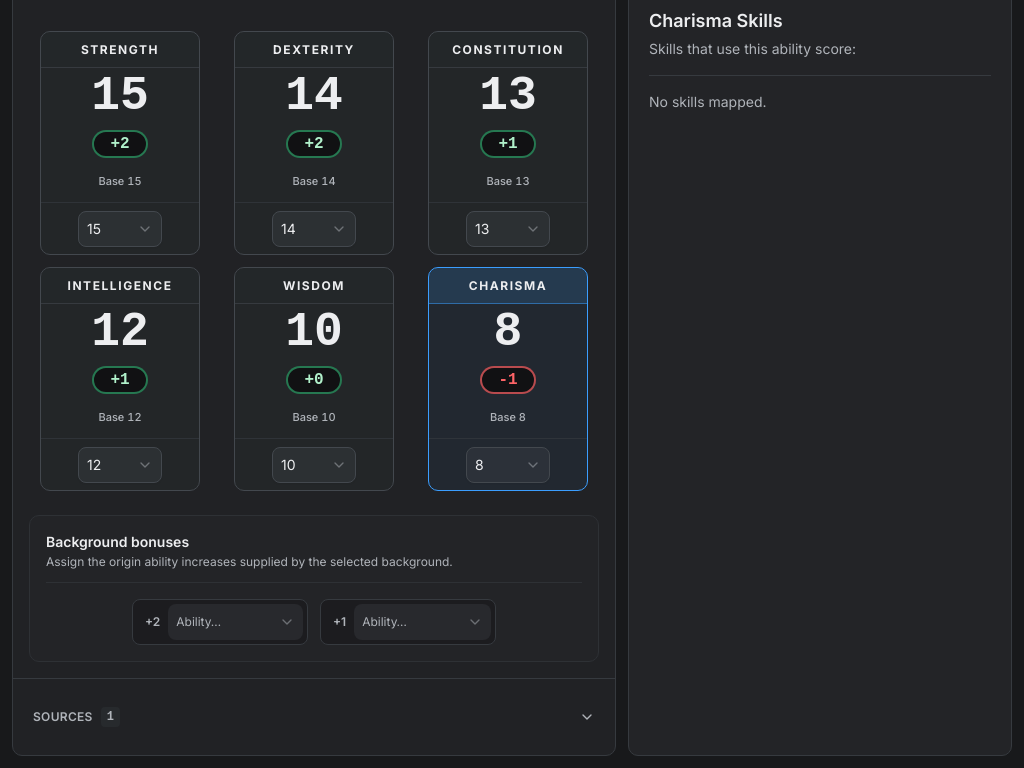
BuildAbilityScoresPage › shows the unresolved parsed background bonus pattern in Sources
This screenshot has width=1024, height=768.
(page scrolled)
Click the button "Sources 1" at (63, 716), box [29, 695, 599, 739]
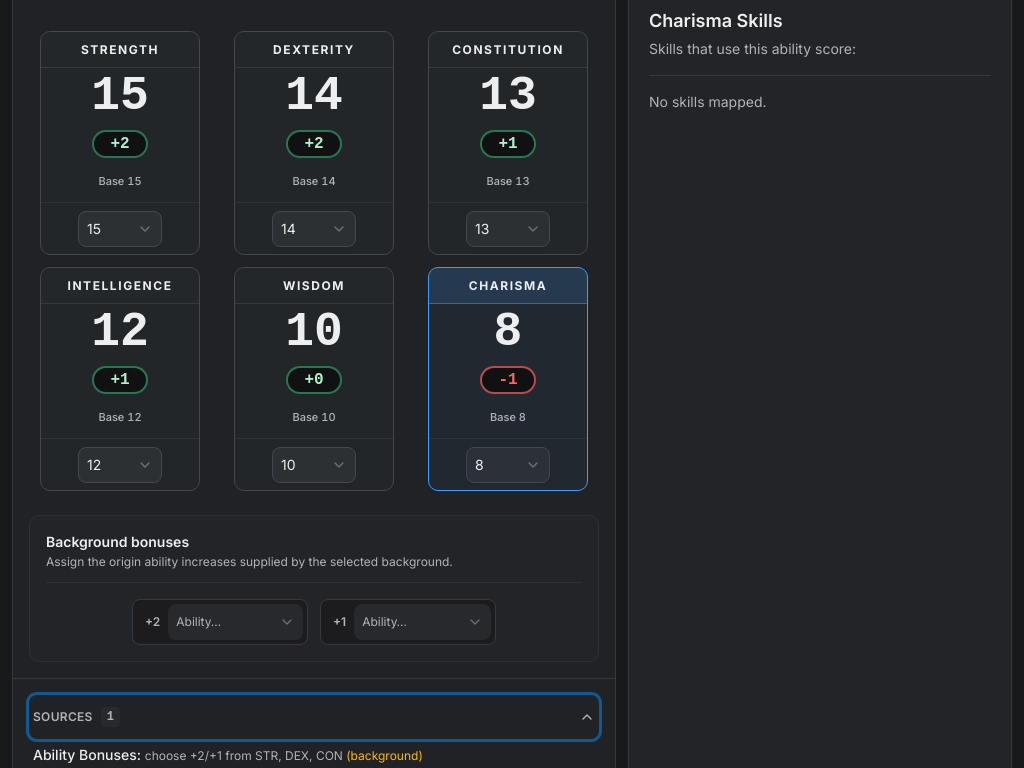
Expected: the text "choose +2/+1 from STR, DEX, CON" is shown, [145, 748, 343, 763]
Expected: the text "(background)" is shown, [343, 748, 423, 763]
